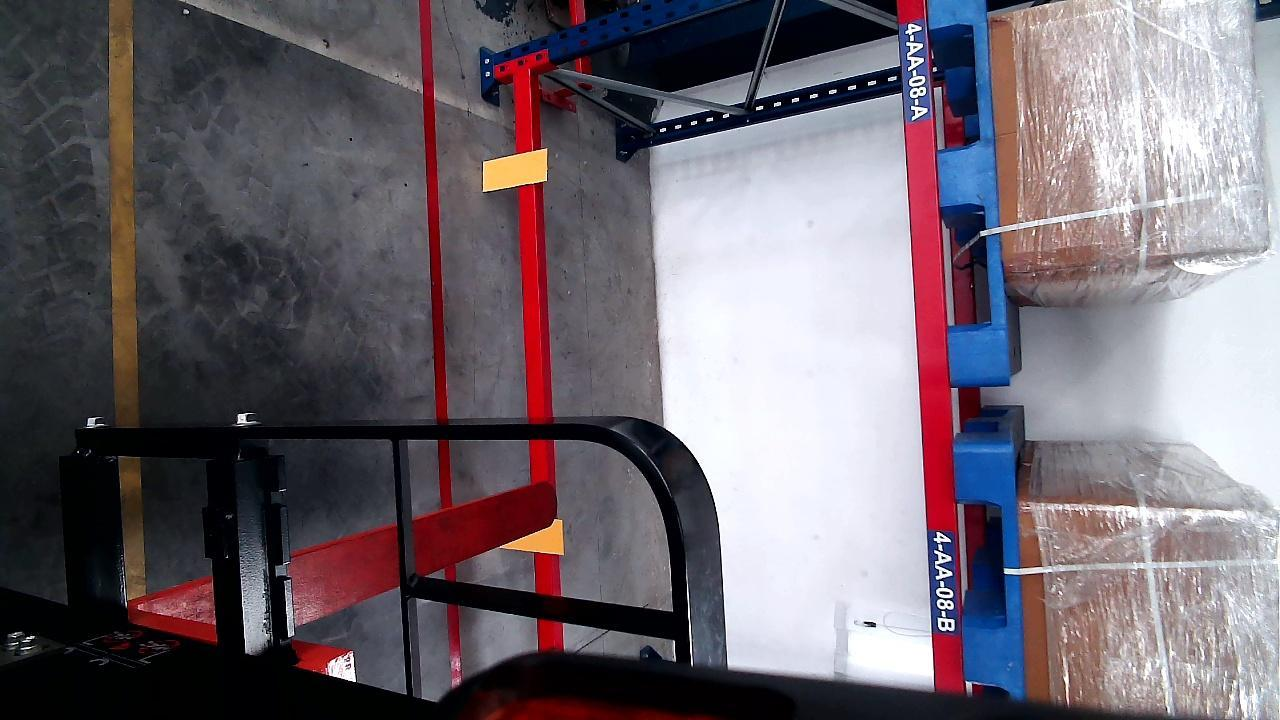red_line: (419, 0, 461, 689)
yellow_line: (109, 0, 139, 420)
